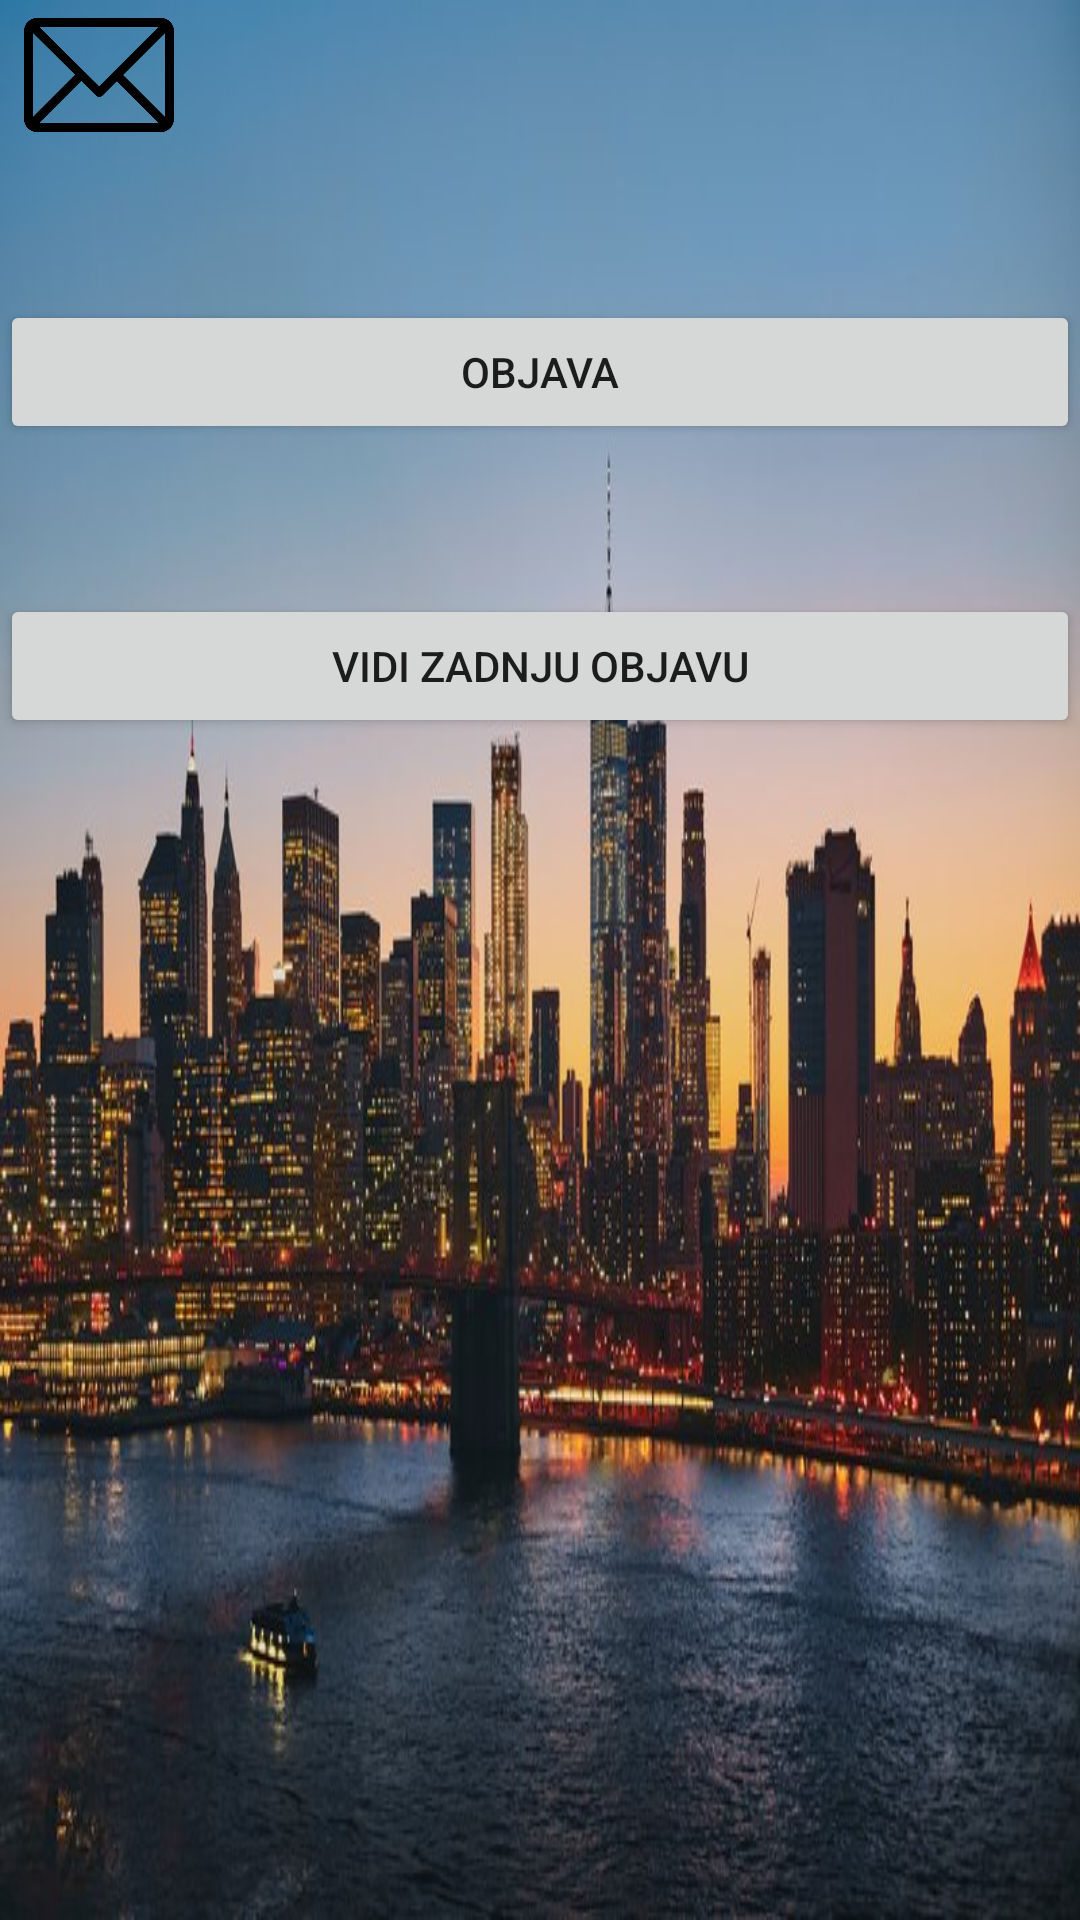

Icon bounding boxes for this 1080×1920 phone screenshot, format detection(x1, y1, x2, y2):
mail: detection(0, 0, 198, 150)
